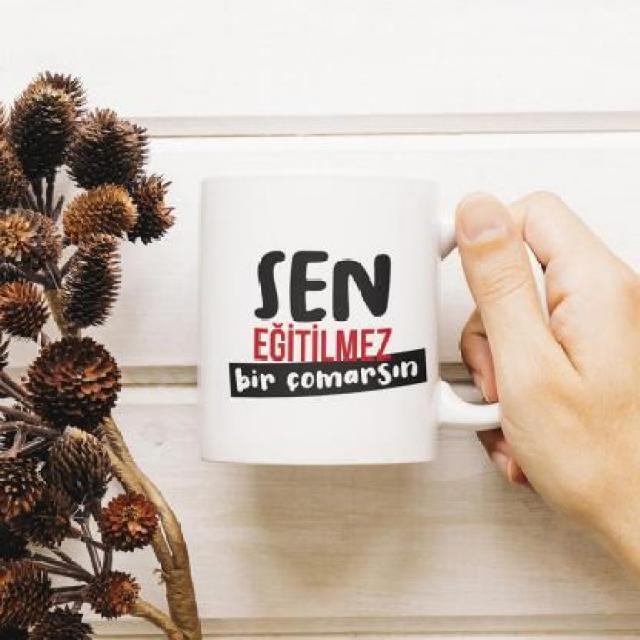taza: (175, 152, 552, 478)
